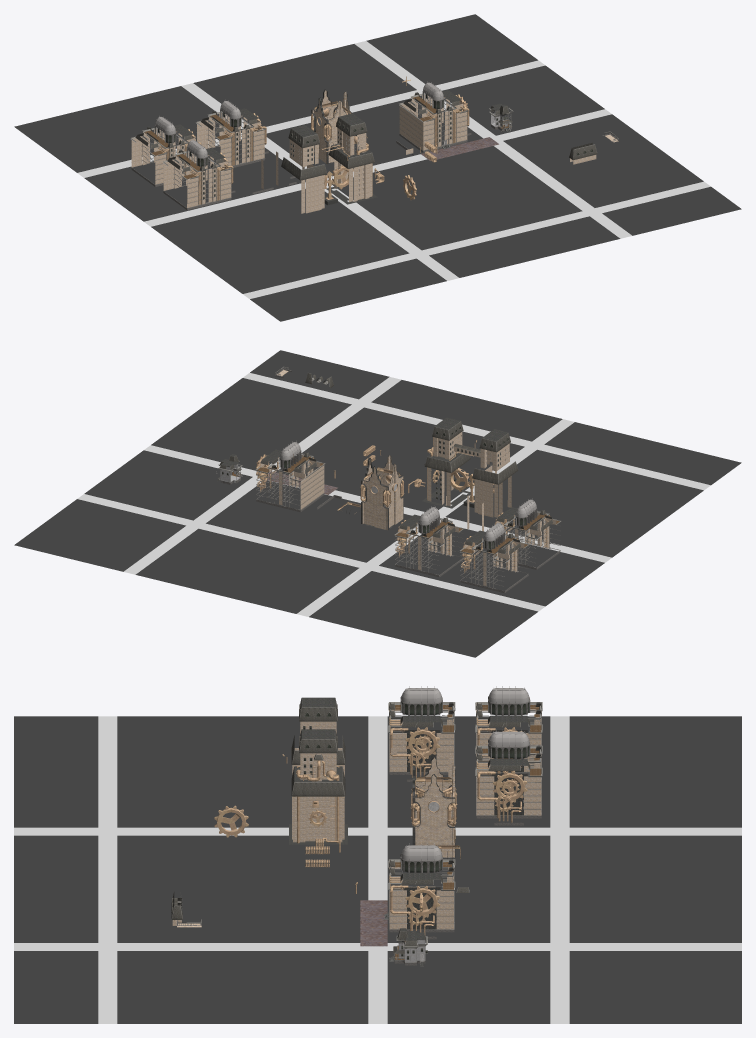
File: TestBuildingJoint.glb
3 views of the same model, one above another, from view 1: azimuth 30°, elevation 25°; view 2: azimuth 150°, elevation 25°; view 3: azimuth 270°, elevation 25° (orthographic). The views are drawn at different scales.
Parts seen in each view (by area): view 1: Floor, Roof1.033; view 2: Floor, Roof1.033; view 3: Floor, Roof1.033.
Boxes of the visible parts, x1,y1,x2,y2 form: Floor: (14, 14, 741, 321); Roof1.033: (131, 76, 618, 213); Floor: (14, 350, 741, 657); Roof1.033: (216, 366, 561, 593); Floor: (14, 716, 741, 1023); Roof1.033: (171, 686, 542, 966).
Bounding box in the file's own units: 160 × 38.68 × 160.
3 materials, 1 textured.
